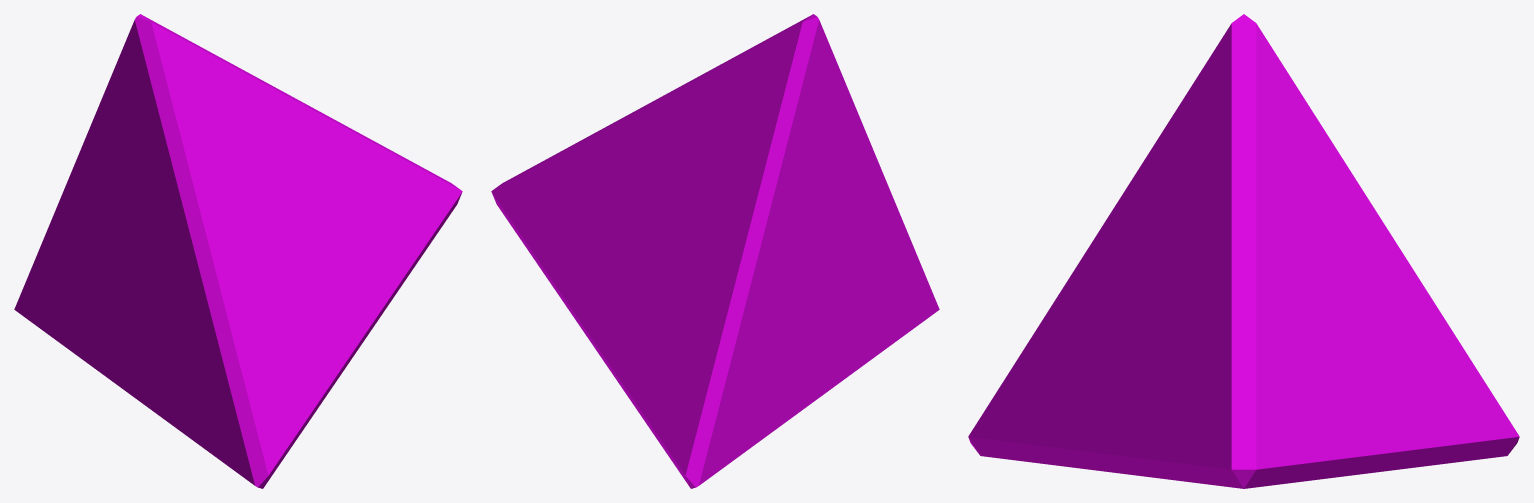
Rendered from Enemy_Pyramide.fbx.
The picture shows the model from 3 angles, left to right: view 1: azimuth 30°, elevation 25°; view 2: azimuth 150°, elevation 25°; view 3: azimuth 270°, elevation 25°; orthographic projection. The views are drawn at different scales.
Visible parts, largest first — view 1: Enemy_Pyramide; view 2: Enemy_Pyramide; view 3: Enemy_Pyramide.
Boxes of the visible parts, x1=… form: Enemy_Pyramide: x1=14, y1=14, x2=462, y2=488; Enemy_Pyramide: x1=491, y1=14, x2=939, y2=488; Enemy_Pyramide: x1=968, y1=14, x2=1519, y2=488.
Bounding box in the file's own units: 161 × 140 × 122.
